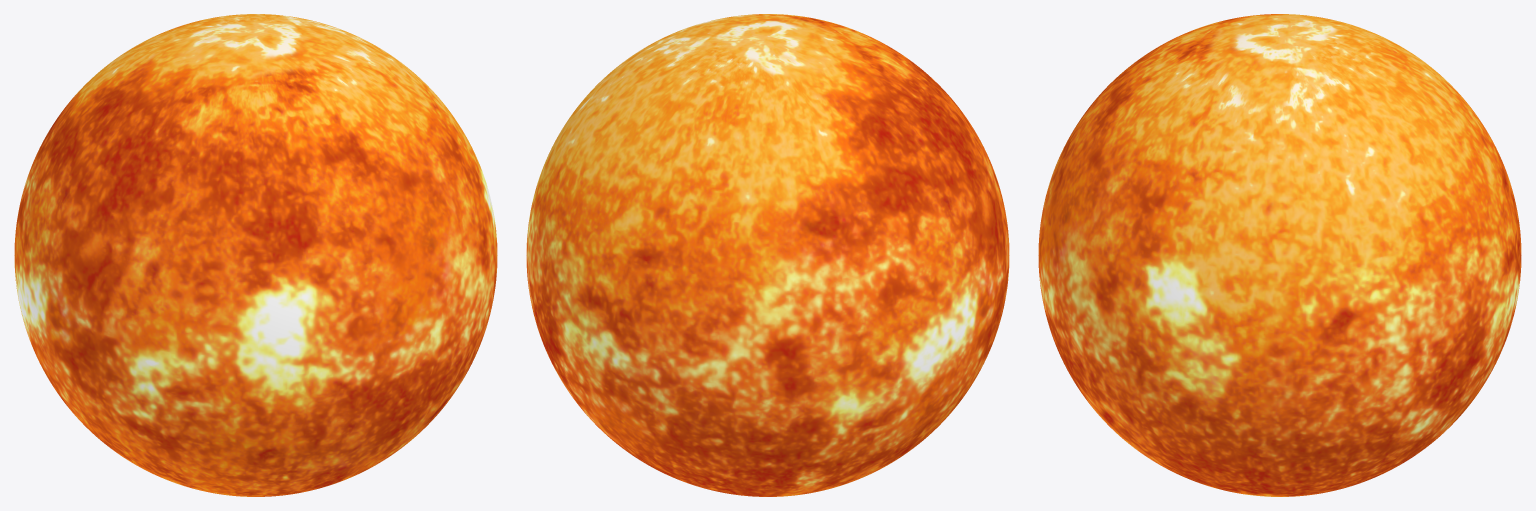
File: sun_model.glb
3 renders of one model, left to right at view 1: azimuth 30°, elevation 25°; view 2: azimuth 150°, elevation 25°; view 3: azimuth 270°, elevation 25°, orthographic.
Parts seen in each view (by area): view 1: Object_6, Object_5, Object_9, Object_7, Object_4, Object_8, Object_3, Object_2; view 2: Object_5, Object_4, Object_6, Object_3, Object_7, Object_2, Object_9; view 3: Object_9, Object_2, Object_3, Object_4, Object_6, Object_7, Object_8, Object_5.
Boxes of the visible parts, x1,y1,x2,y2 form: Object_6: (27, 26, 435, 281); Object_5: (14, 15, 436, 403); Object_9: (254, 30, 497, 437); Object_7: (117, 33, 438, 489); Object_4: (23, 14, 436, 474); Object_8: (198, 33, 469, 496); Object_3: (92, 14, 437, 489); Object_2: (196, 21, 438, 489); Object_5: (603, 21, 1009, 402); Object_4: (539, 21, 1000, 475); Object_6: (711, 21, 996, 283); Object_3: (526, 21, 931, 496); Object_7: (707, 14, 908, 128); Object_2: (540, 21, 766, 174); Object_9: (634, 22, 780, 283); Object_9: (1038, 36, 1280, 436); Object_2: (1038, 37, 1375, 496); Object_3: (1038, 37, 1461, 492); Object_4: (1038, 36, 1515, 448); Object_6: (1050, 21, 1463, 215); Object_7: (1038, 14, 1343, 253); Object_8: (1038, 45, 1279, 496); Object_5: (1038, 34, 1521, 324).
Bounding box in the file's own units: 2000 × 2000 × 2000.
1 material, 1 textured.
